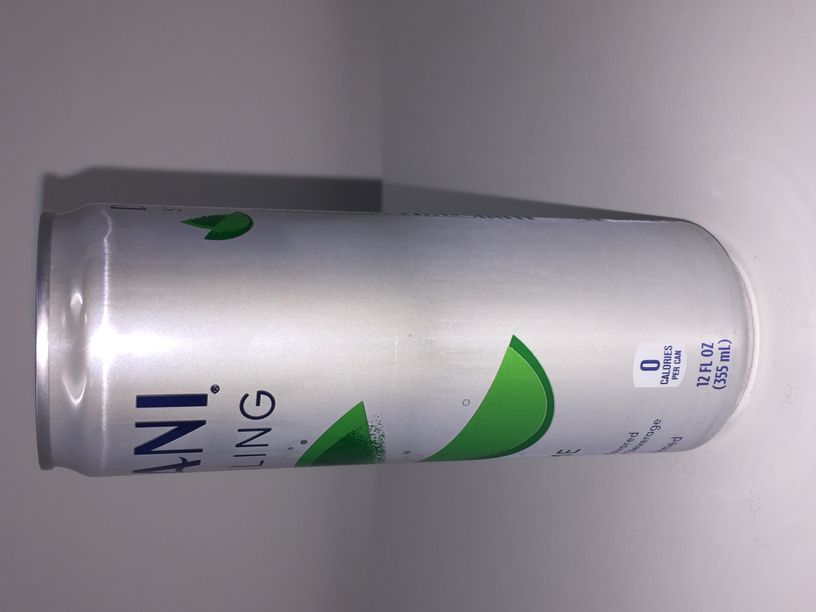lime: (37, 201, 759, 476)
